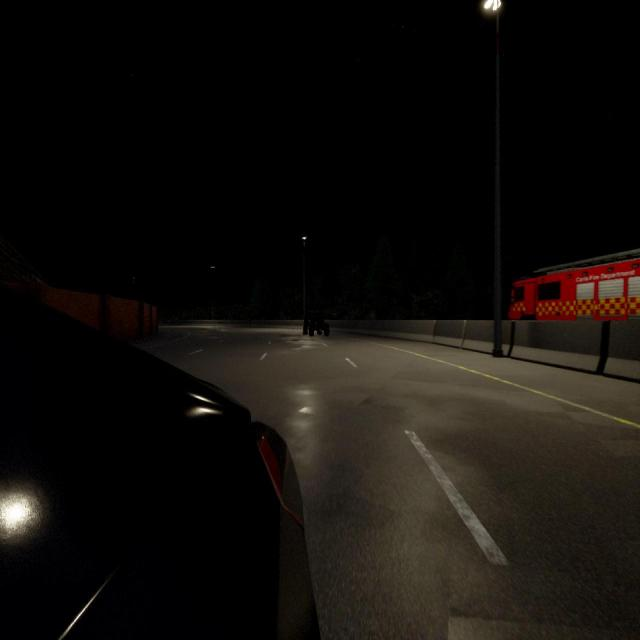Vehicle: (0, 286, 318, 640), (508, 248, 640, 320), (303, 314, 330, 337)
